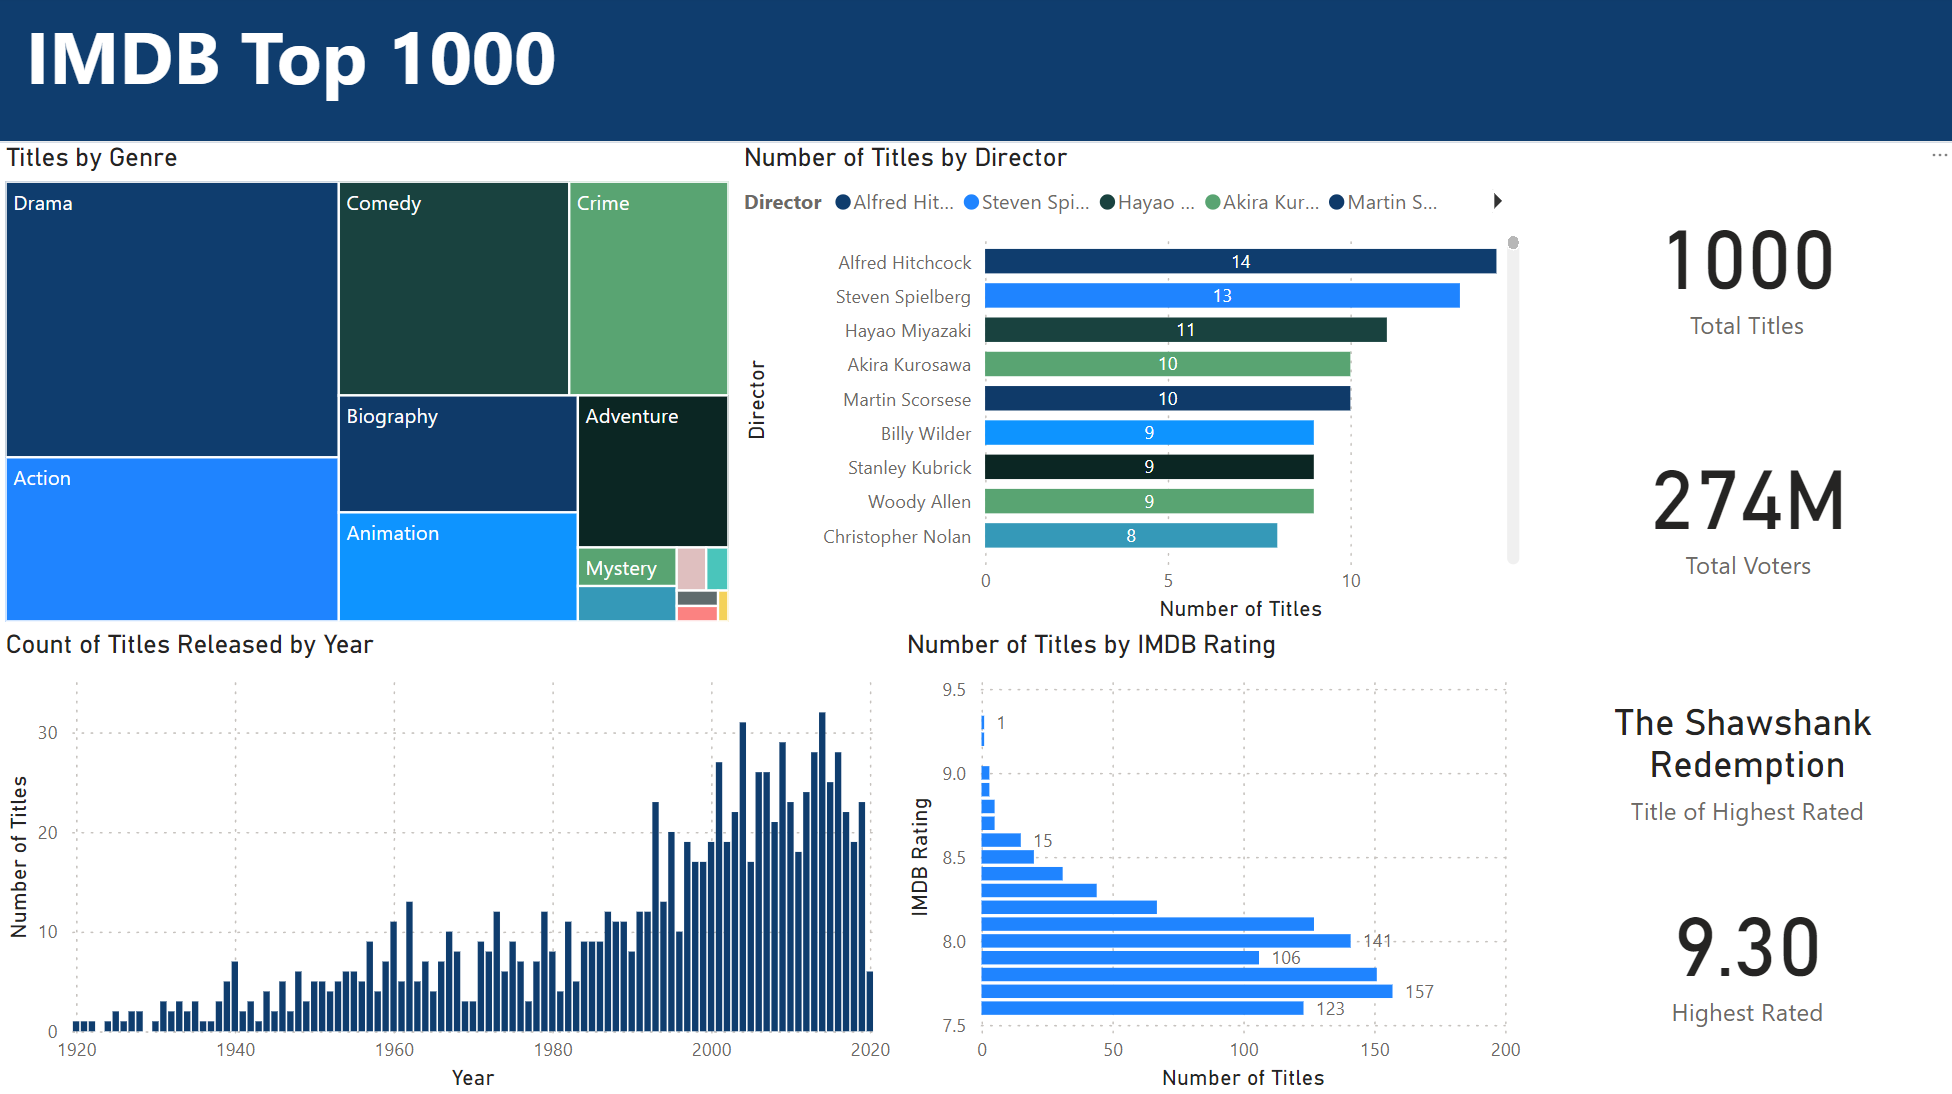

This screenshot's page, from the dashboard's own definition file:
{"tool":"powerbi","page":{"name":"Page 1","canvas":[1280,720],"ordinal":0},"visuals":[{"type":"treemap","title":"Titles by Genre","fields":{"Group":["imdb_top_1000.Genre.1"],"Values":["imdb_top_1000.Series_Title"]},"box":[0,94.9,482.9,318.7],"z":0},{"type":"card","fields":{"Values":["imdb_top_1000.Series_Title"]},"box":[1009.7,94.9,269.6,161.6],"z":1000},{"type":"columnChart","title":"Count of Titles Released by Year","fields":{"Category":["imdb_top_1000.Released_Year"],"Y":["imdb_top_1000.Series_Title"]},"box":[0,413.6,589.6,306.3],"z":2000},{"type":"actionButton","box":[0,0,100,40],"z":3000},{"type":"barChart","title":"Number of Titles by IMDB Rating","fields":{"Category":["imdb_top_1000.IMDB_Rating","imdb_top_1000.Series_Title"],"Y":["imdb_top_1000.Series_Title"]},"box":[589.6,413.6,411.6,306.3],"z":4000},{"type":"barChart","title":"Number of Titles by Director","fields":{"Category":["imdb_top_1000.Director","imdb_top_1000.Series_Title"],"Y":["imdb_top_1000.Series_Title"],"Series":["imdb_top_1000.Director"]},"box":[482.9,94.9,517.6,318.7],"z":5000},{"type":"card","fields":{"Values":["imdb_top_1000.IMDB_Rating"]},"box":[1009.7,530.7,270.3,189.1],"z":6000},{"type":"card","fields":{"Values":["imdb_top_1000.TitleOfHighestRatedShow"]},"box":[1009.7,443,270.3,109.3],"z":7000},{"type":"card","fields":{"Values":["imdb_top_1000.No_of_Votes"]},"box":[1011,254.6,269,156.4],"z":8000},{"type":"textbox","box":[0,0,1279.3,94.9],"z":9000}]}

Visuals, with their boxes in screenshot pixels (x1, y1, x2, y2), scaled from the page's 1280x720 canvas onto the 1952x1094 screenshot:
"Titles by Genre" treemap: rect(0, 144, 736, 628)
card - imdb_top_1000.Series_Title: rect(1540, 144, 1951, 390)
"Count of Titles Released by Year" columnChart: rect(0, 628, 899, 1093)
actionButton: rect(0, 0, 152, 61)
"Number of Titles by IMDB Rating" barChart: rect(899, 628, 1527, 1093)
"Number of Titles by Director" barChart: rect(736, 144, 1526, 628)
card - imdb_top_1000.IMDB_Rating: rect(1540, 806, 1951, 1093)
card - imdb_top_1000.TitleOfHighestRatedShow: rect(1540, 673, 1951, 839)
card - imdb_top_1000.No_of_Votes: rect(1542, 387, 1951, 624)
textbox: rect(0, 0, 1951, 144)
